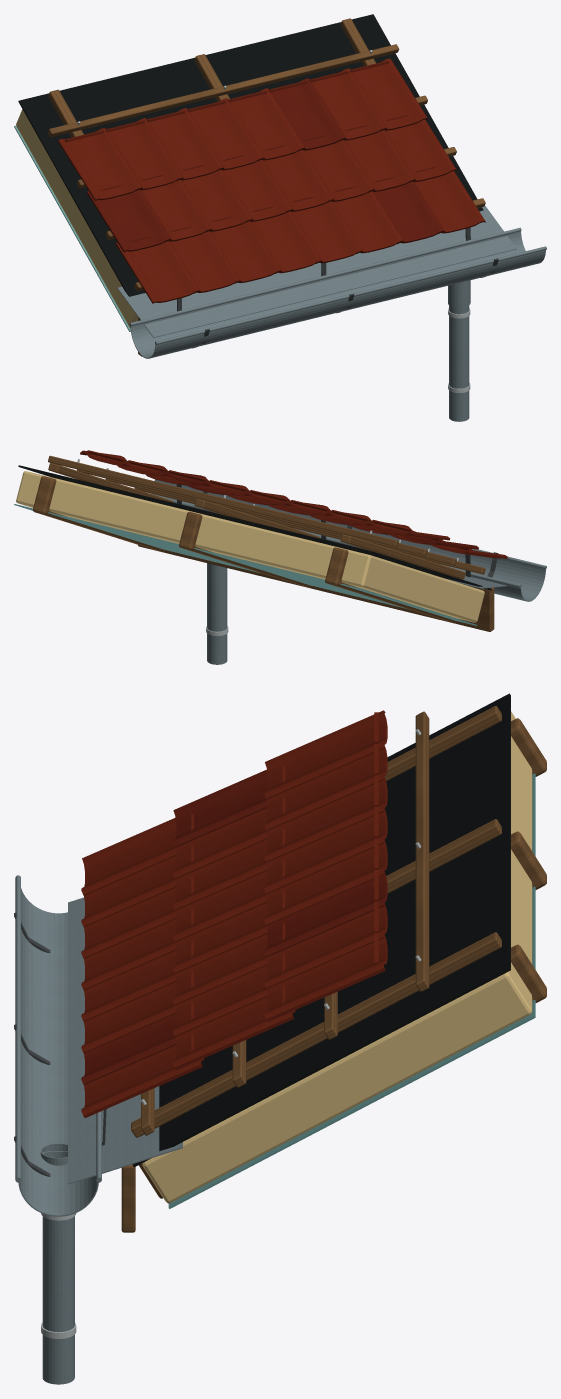
The model's file is modell.glb.
3 renders of one model, top to bottom at view 1: azimuth 30°, elevation 25°; view 2: azimuth 150°, elevation 25°; view 3: azimuth 270°, elevation 25°, orthographic. The views are drawn at different scales.
Visible parts, largest first — view 1: s02-deckziegel_deckung, s02-zusatzebene_zusatzebene, s02-traufblech_zusatzebene, s02-rinne_, s02-deckziegel_deckung.001, s02-lattung_lattung, s02-daemmung_daemmung, s02-fallrohr_, s02-luftdichtheit_luftdichtheit, s02-stutzen_; view 2: s02-daemmung_daemmung, s02-lattung_lattung, s02-deckziegel_deckung, s02-rinne_, s02-sparren_tragwerk, s02-luftdichtheit_luftdichtheit, s02-zusatzebene_zusatzebene, s02-fallrohr_, s02-lattung_tragwerk, s02-deckziegel_deckung.001, s02-halter_, s02-traufblech_zusatzebene; view 3: s02-deckziegel_deckung, s02-zusatzebene_zusatzebene, s02-daemmung_daemmung, s02-rinne_, s02-lattung_lattung, s02-deckziegel_deckung.001, s02-traufblech_zusatzebene, s02-fallrohr_, s02-sparren_tragwerk, s02-luftdichtheit_luftdichtheit, s02-lattung_tragwerk.
Part boxes in pixels (x1,y1,x2,y2): s02-deckziegel_deckung: (58,58,485,303); s02-zusatzebene_zusatzebene: (18,14,483,296); s02-traufblech_zusatzebene: (117,205,516,337); s02-rinne_: (129,227,546,358); s02-deckziegel_deckung.001: (87,78,444,252); s02-lattung_lattung: (48,18,485,290); s02-daemmung_daemmung: (16,109,137,328); s02-fallrohr_: (449,305,469,421); s02-luftdichtheit_luftdichtheit: (14,125,130,331); s02-stutzen_: (448,280,470,307); s02-daemmung_daemmung: (16,471,484,622); s02-lattung_lattung: (48,455,485,579); s02-deckziegel_deckung: (80,450,507,558); s02-rinne_: (151,479,546,601); s02-sparren_tragwerk: (33,476,458,623); s02-luftdichtheit_luftdichtheit: (14,504,477,625); s02-zusatzebene_zusatzebene: (18,465,491,590); s02-fallrohr_: (207,563,227,664); s02-lattung_tragwerk: (138,545,494,631); s02-deckziegel_deckung.001: (161,470,478,549); s02-halter_: (176,484,498,577); s02-traufblech_zusatzebene: (447,575,506,588); s02-deckziegel_deckung: (81,710,387,1117); s02-zusatzebene_zusatzebene: (132,693,510,1167); s02-daemmung_daemmung: (142,711,532,1203); s02-rinne_: (15,875,101,1216); s02-lattung_lattung: (131,706,501,1137); s02-deckziegel_deckung.001: (81,769,387,1085); s02-traufblech_zusatzebene: (68,897,182,1184); s02-fallrohr_: (42,1216,74,1384); s02-sparren_tragwerk: (138,718,546,1198); s02-luftdichtheit_luftdichtheit: (168,773,535,1208); s02-lattung_tragwerk: (121,1164,135,1232).
Bounding box in the file's own units: 2.3 × 1.64 × 1.71.
9 materials, 4 textured.
